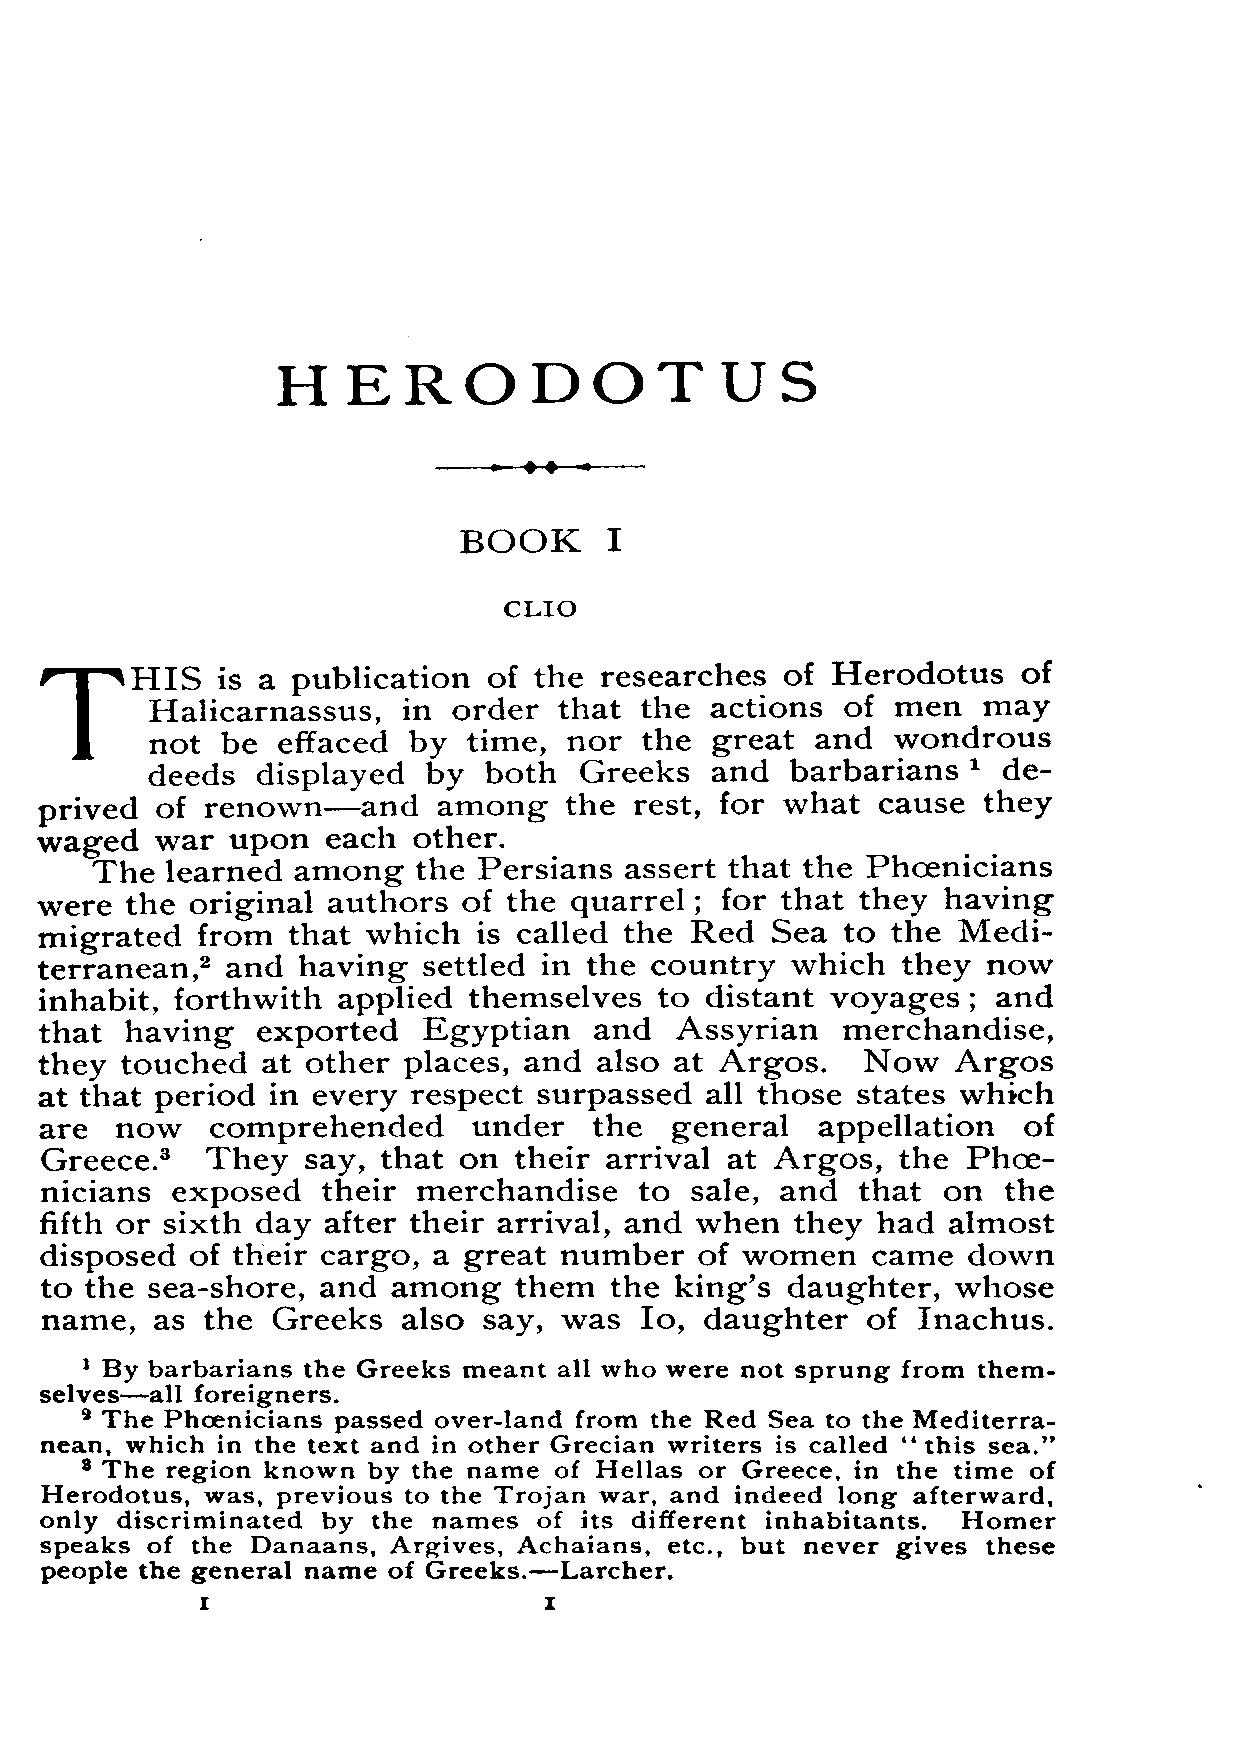chapter: (271, 360, 815, 407), (456, 525, 624, 619)
content: (36, 659, 1056, 1586)
content_pagenumber: (539, 1592, 556, 1613)
